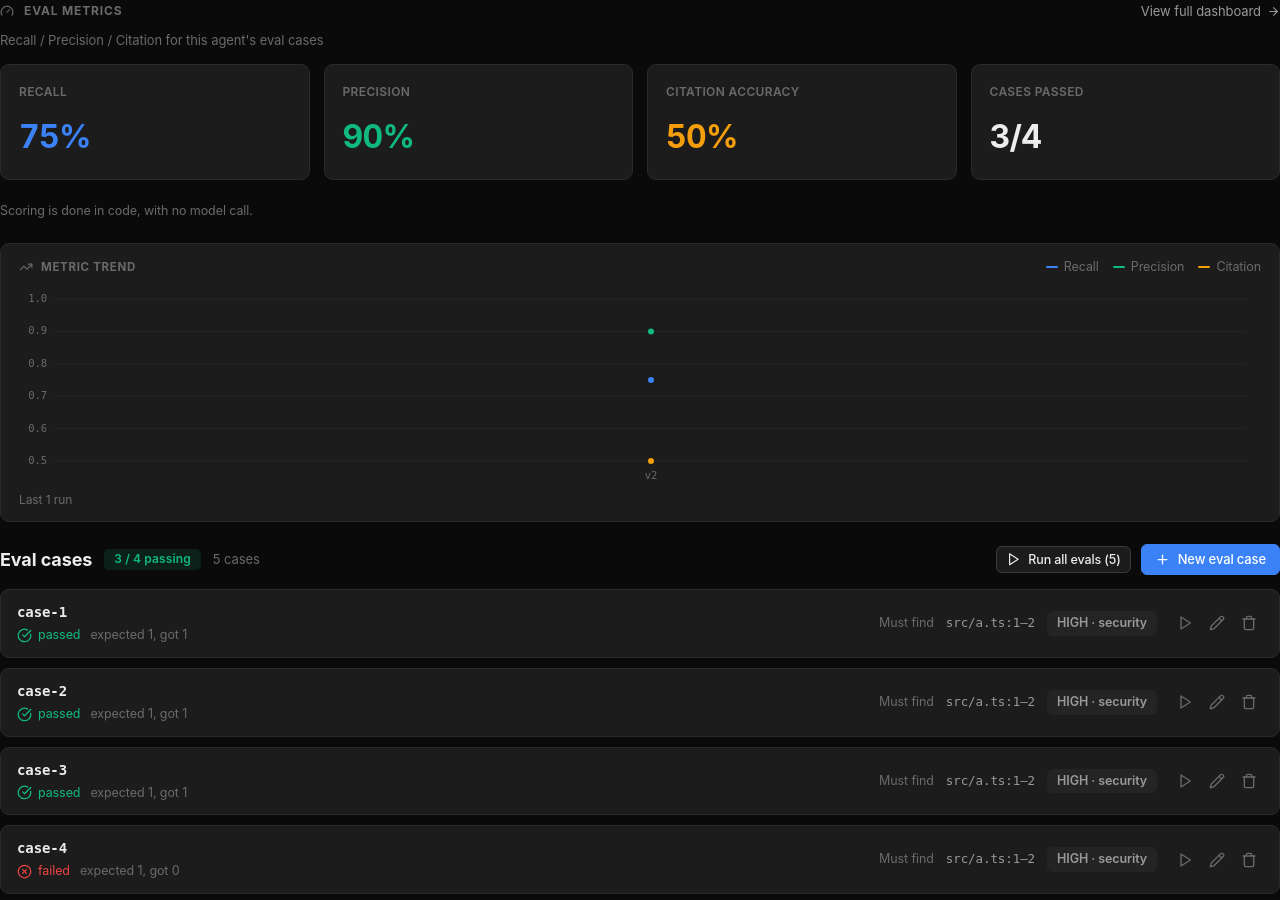
Scenario: EvalsTab — case editor (AC-26, AC-27, AC-37, AC-41) › opens an empty editor for a new case
Expected: the text "5 cases" is shown, x1=213 y1=550 x2=260 y2=569
Click the button "New eval case".
click(1210, 559)  # box x1=1141 y1=544 x2=1279 y2=575
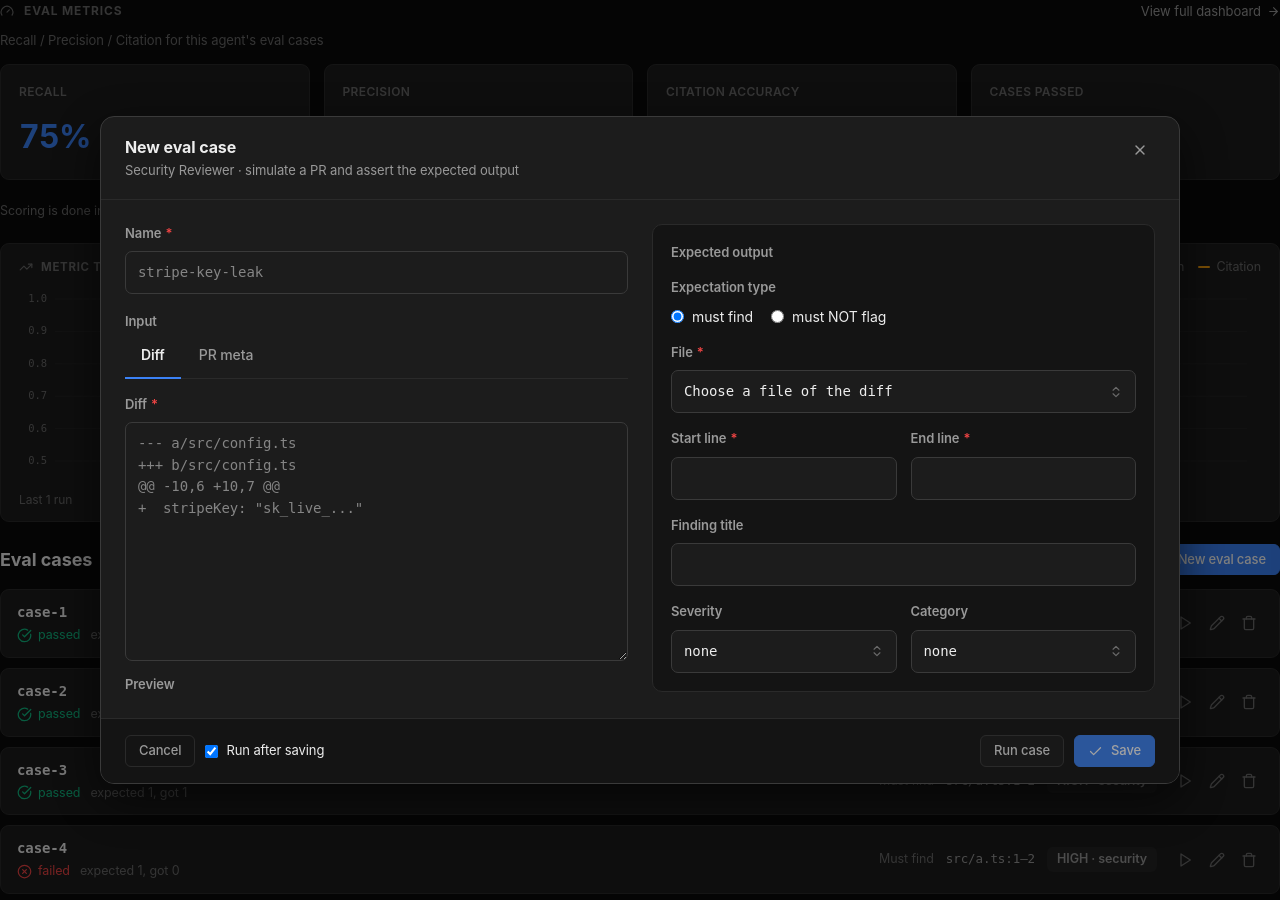
Now the text "New eval case" is shown, box x1=125 y1=137 x2=236 y2=157
Now the field labelled "Name*" is empty, box x1=138 y1=262 x2=615 y2=283
